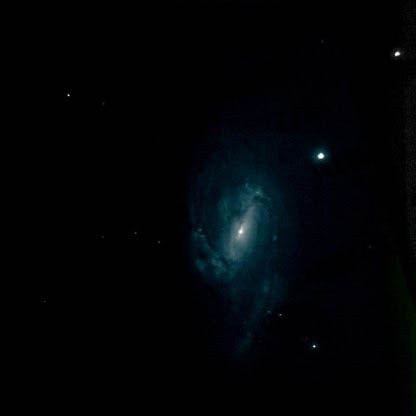Messier 66: (171, 149, 336, 314)
